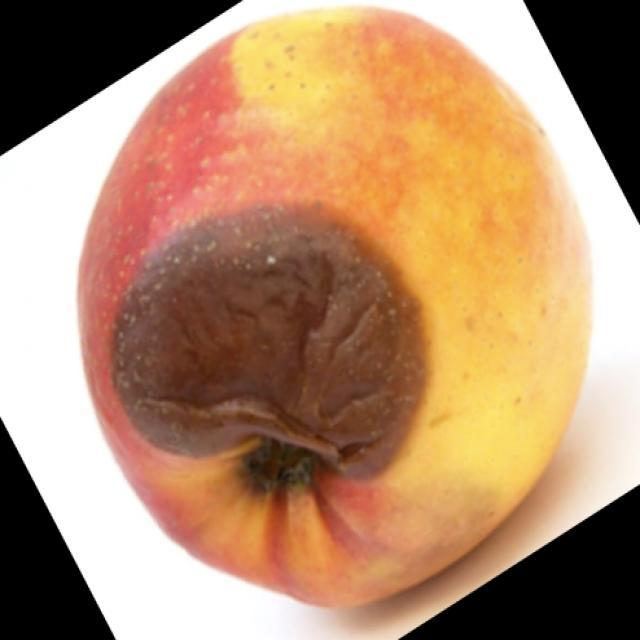Rotten: (103, 15, 585, 595)
